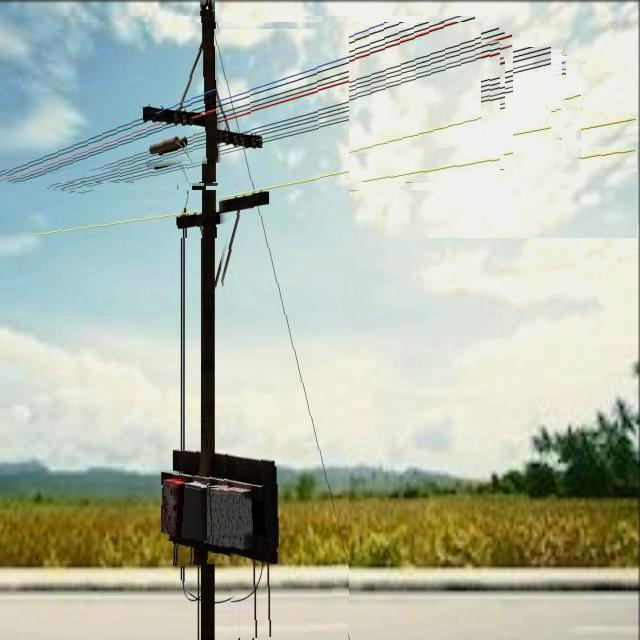crossarm: (173, 451, 263, 563), (138, 116, 260, 151), (175, 193, 266, 223)
pole: (201, 0, 214, 640)
transformer: (211, 488, 244, 552), (161, 479, 185, 541), (188, 483, 207, 541)
wire: (215, 30, 349, 595), (1, 16, 471, 173), (1, 37, 500, 182), (15, 42, 513, 183), (48, 47, 541, 188), (5, 50, 505, 183), (59, 59, 567, 189), (4, 22, 424, 177), (52, 49, 517, 188), (75, 60, 545, 191), (74, 56, 509, 191), (33, 141, 637, 238)
